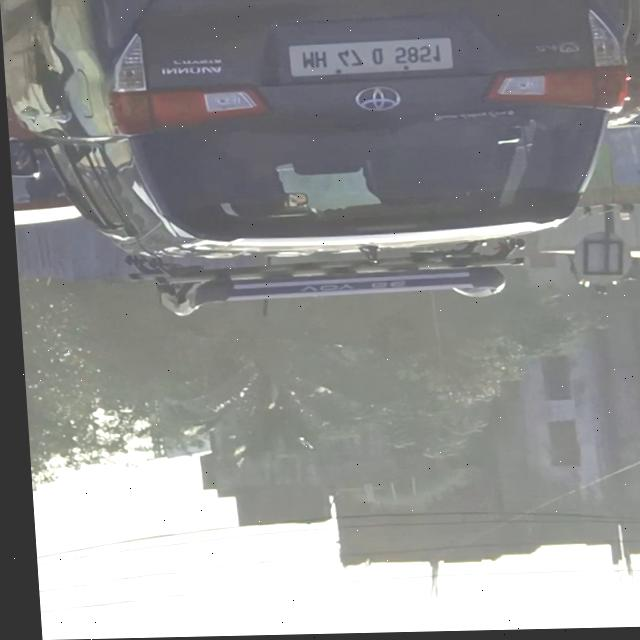plate: (285, 40, 454, 81)
